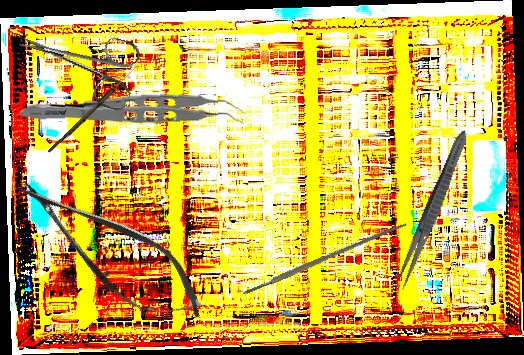Dressing Forceps: (392, 127, 473, 292)
Iris Scissors: (9, 9, 146, 114)
Micro Scissor: (0, 157, 220, 343)
Scalpel Handle: (239, 220, 409, 297)
Surgical Spoon: (47, 62, 140, 156)
Tissue Forceps: (18, 89, 246, 139)
